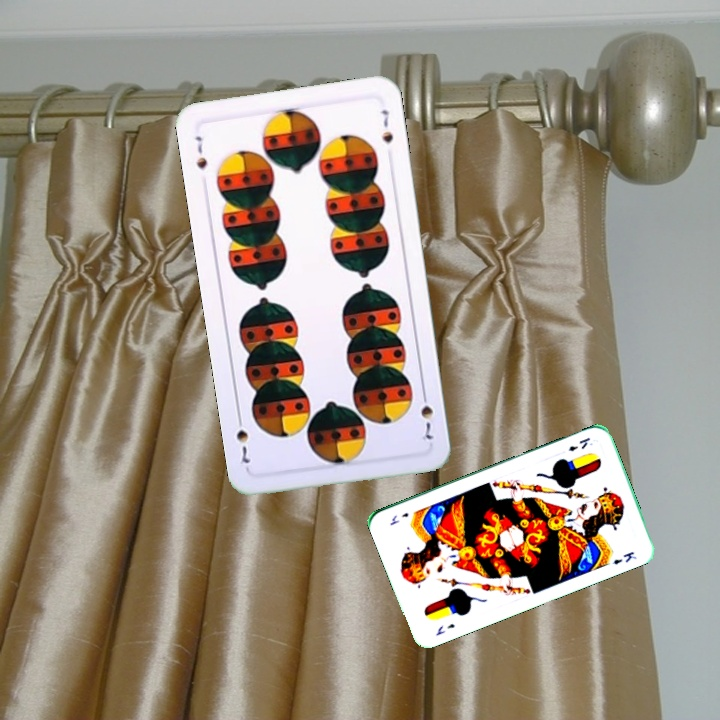EK: (564, 433, 593, 454), (432, 619, 457, 638)
S7: (416, 386, 436, 443), (191, 132, 210, 171)
